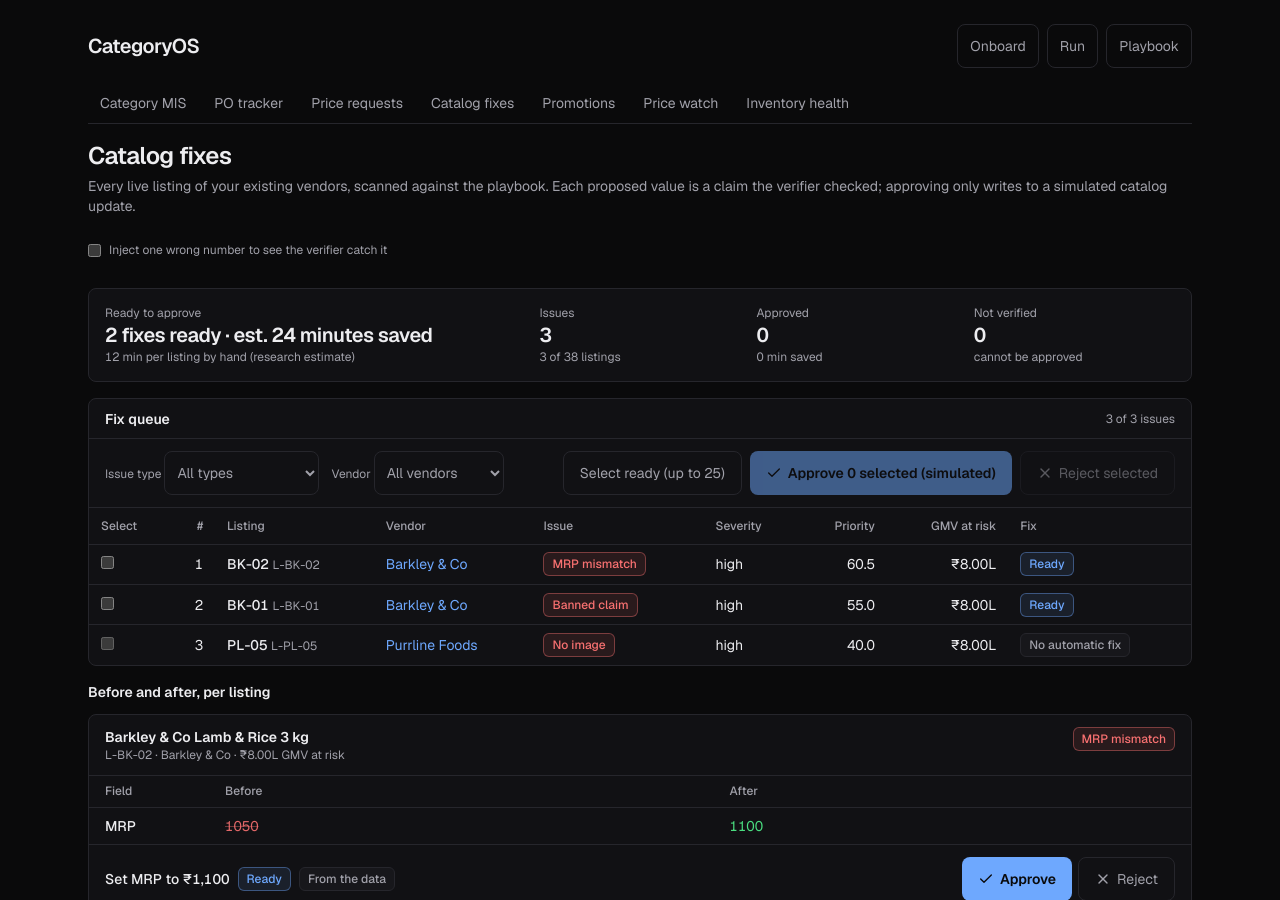
Test: CatalogFixesPage › shows a typed error when the bulk limit is exceeded
Expected: the text "2 fixes ready · est. 24 minutes saved" is shown, [105, 322, 432, 348]
Click the button "Select ready (up to 25)" at (652, 473), box [563, 451, 742, 495]
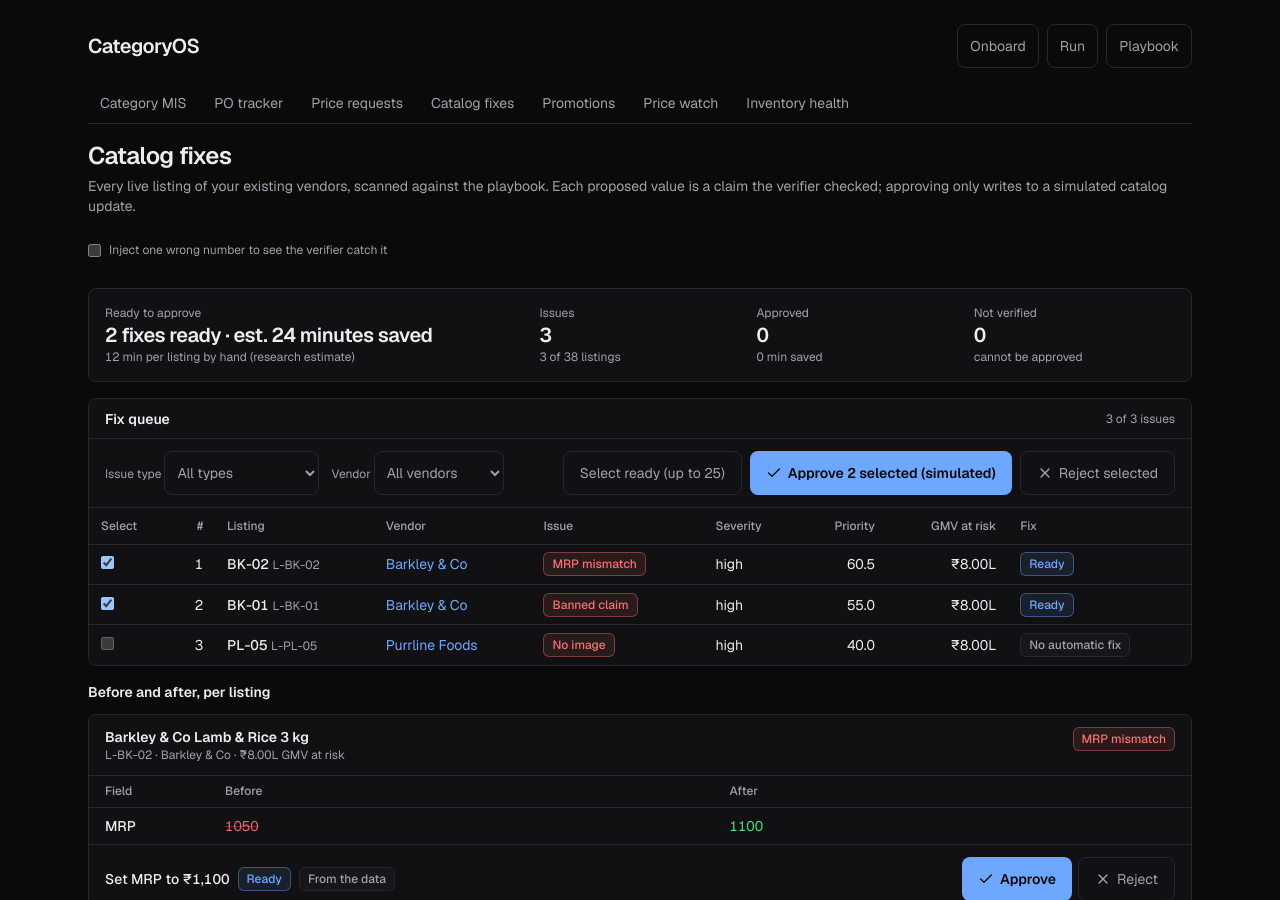
Click the button "Approve 2 selected (simulated)" at (881, 473), box [750, 451, 1012, 495]
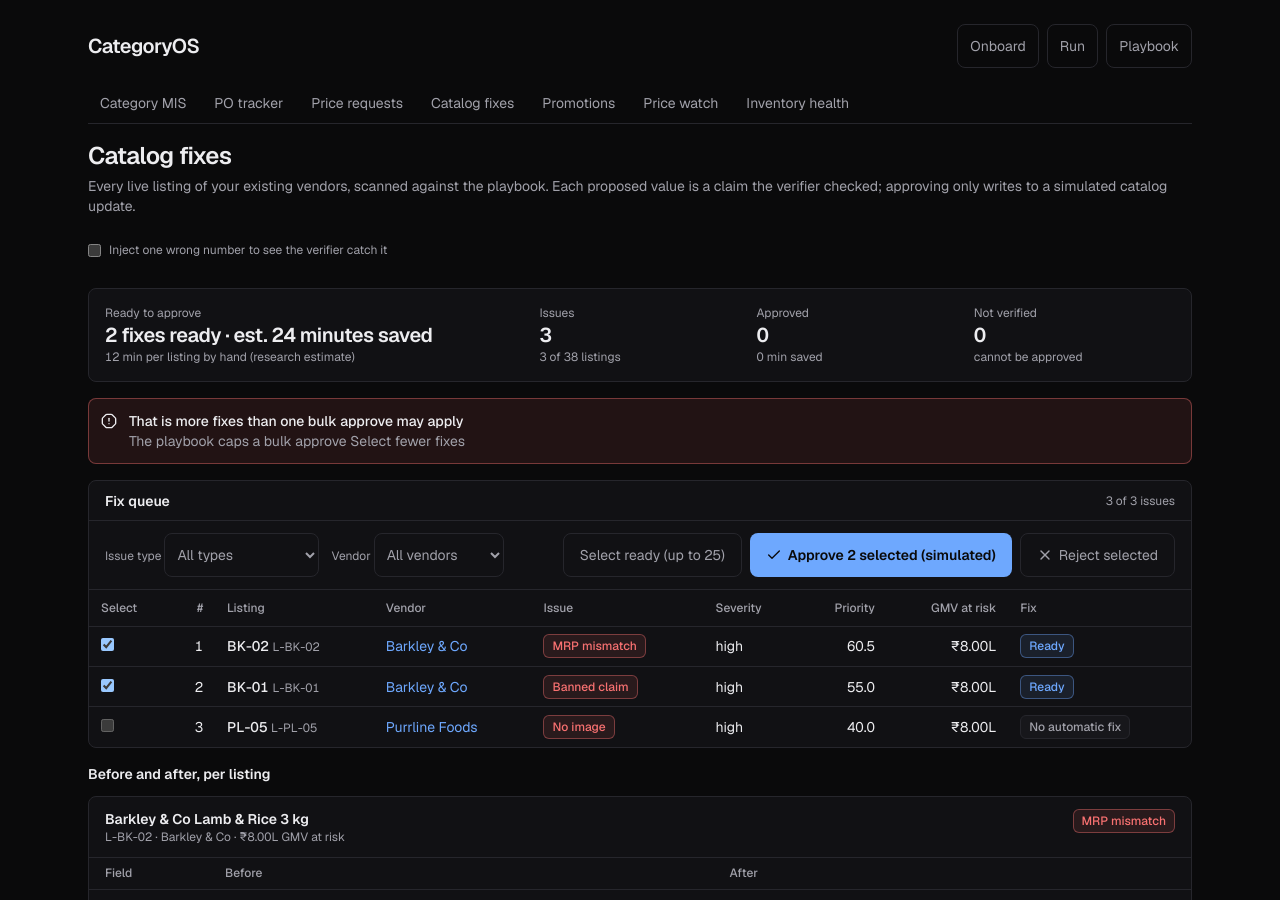
Result: the text "That is more fixes than one bulk approve may apply" is shown at [129, 412, 463, 430]
